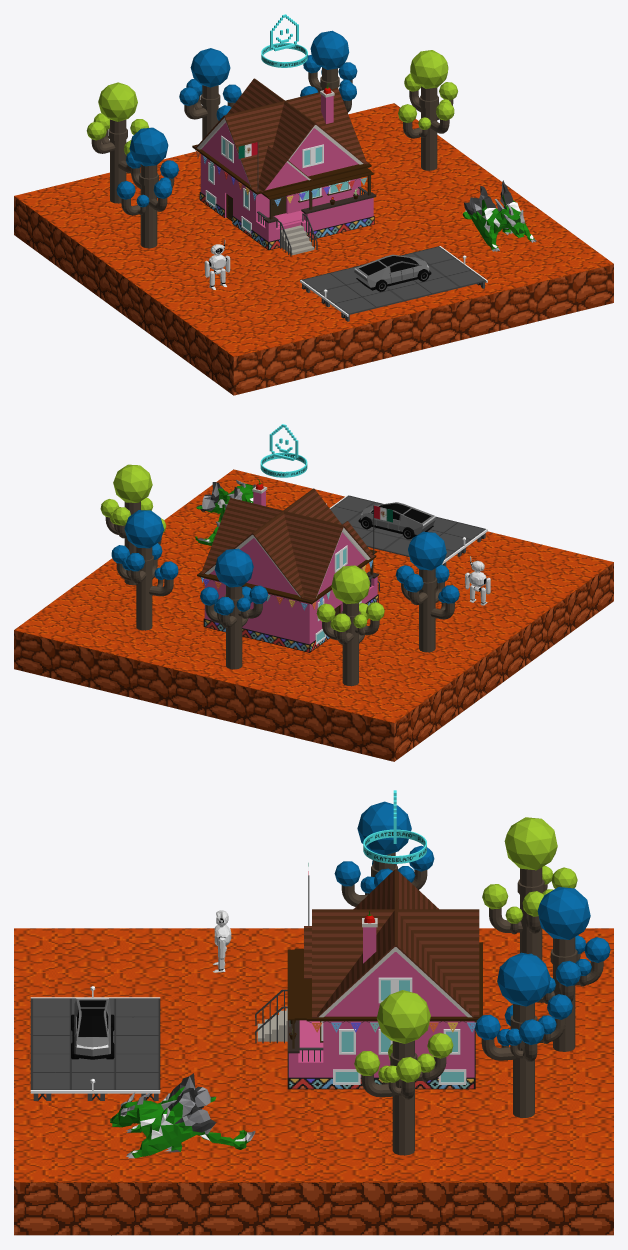
3 renders of one model, top to bottom at view 1: azimuth 30°, elevation 25°; view 2: azimuth 150°, elevation 25°; view 3: azimuth 270°, elevation 25°, orthographic. The views are drawn at different scales.
Visible parts, largest first — view 1: Cube.001, Cube.1005, ANIMAL_DRAGON, VEHICLES_CYBERTRUCK, TYPE_PREMIUM, OBJRANDOM_PLATZEEBOT; view 2: Cube.001, Cube.1005, VEHICLES_CYBERTRUCK, ANIMAL_DRAGON, TYPE_PREMIUM, OBJRANDOM_PLATZEEBOT; view 3: Cube.001, Cube.1005, ANIMAL_DRAGON, VEHICLES_CYBERTRUCK, TYPE_PREMIUM, OBJRANDOM_PLATZEEBOT.
Part boxes in pixels (left/top/right/bottom): Cube.001: left=14, top=30, right=613, bottom=395; Cube.1005: left=192, top=78, right=376, bottom=256; ANIMAL_DRAGON: left=463, top=180, right=537, bottom=251; VEHICLES_CYBERTRUCK: left=354, top=254, right=431, bottom=291; TYPE_PREMIUM: left=261, top=14, right=307, bottom=67; OBJRANDOM_PLATZEEBOT: left=204, top=239, right=230, bottom=289; Cube.001: left=14, top=464, right=613, bottom=761; Cube.1005: left=197, top=479, right=392, bottom=652; VEHICLES_CYBERTRUCK: left=358, top=502, right=435, bottom=539; ANIMAL_DRAGON: left=195, top=480, right=255, bottom=545; TYPE_PREMIUM: left=260, top=424, right=307, bottom=477; OBJRANDOM_PLATZEEBOT: left=465, top=556, right=490, bottom=605; Cube.001: left=14, top=801, right=613, bottom=1235; Cube.1005: left=255, top=863, right=482, bottom=1089; ANIMAL_DRAGON: left=110, top=1073, right=255, bottom=1158; VEHICLES_CYBERTRUCK: left=71, top=998, right=114, bottom=1059; TYPE_PREMIUM: left=363, top=790, right=426, bottom=863; OBJRANDOM_PLATZEEBOT: left=213, top=910, right=231, bottom=972.
Bounding box in the file's own units: 4000 × 2383 × 4000.
Materials: 68 (7 with a texture image).
